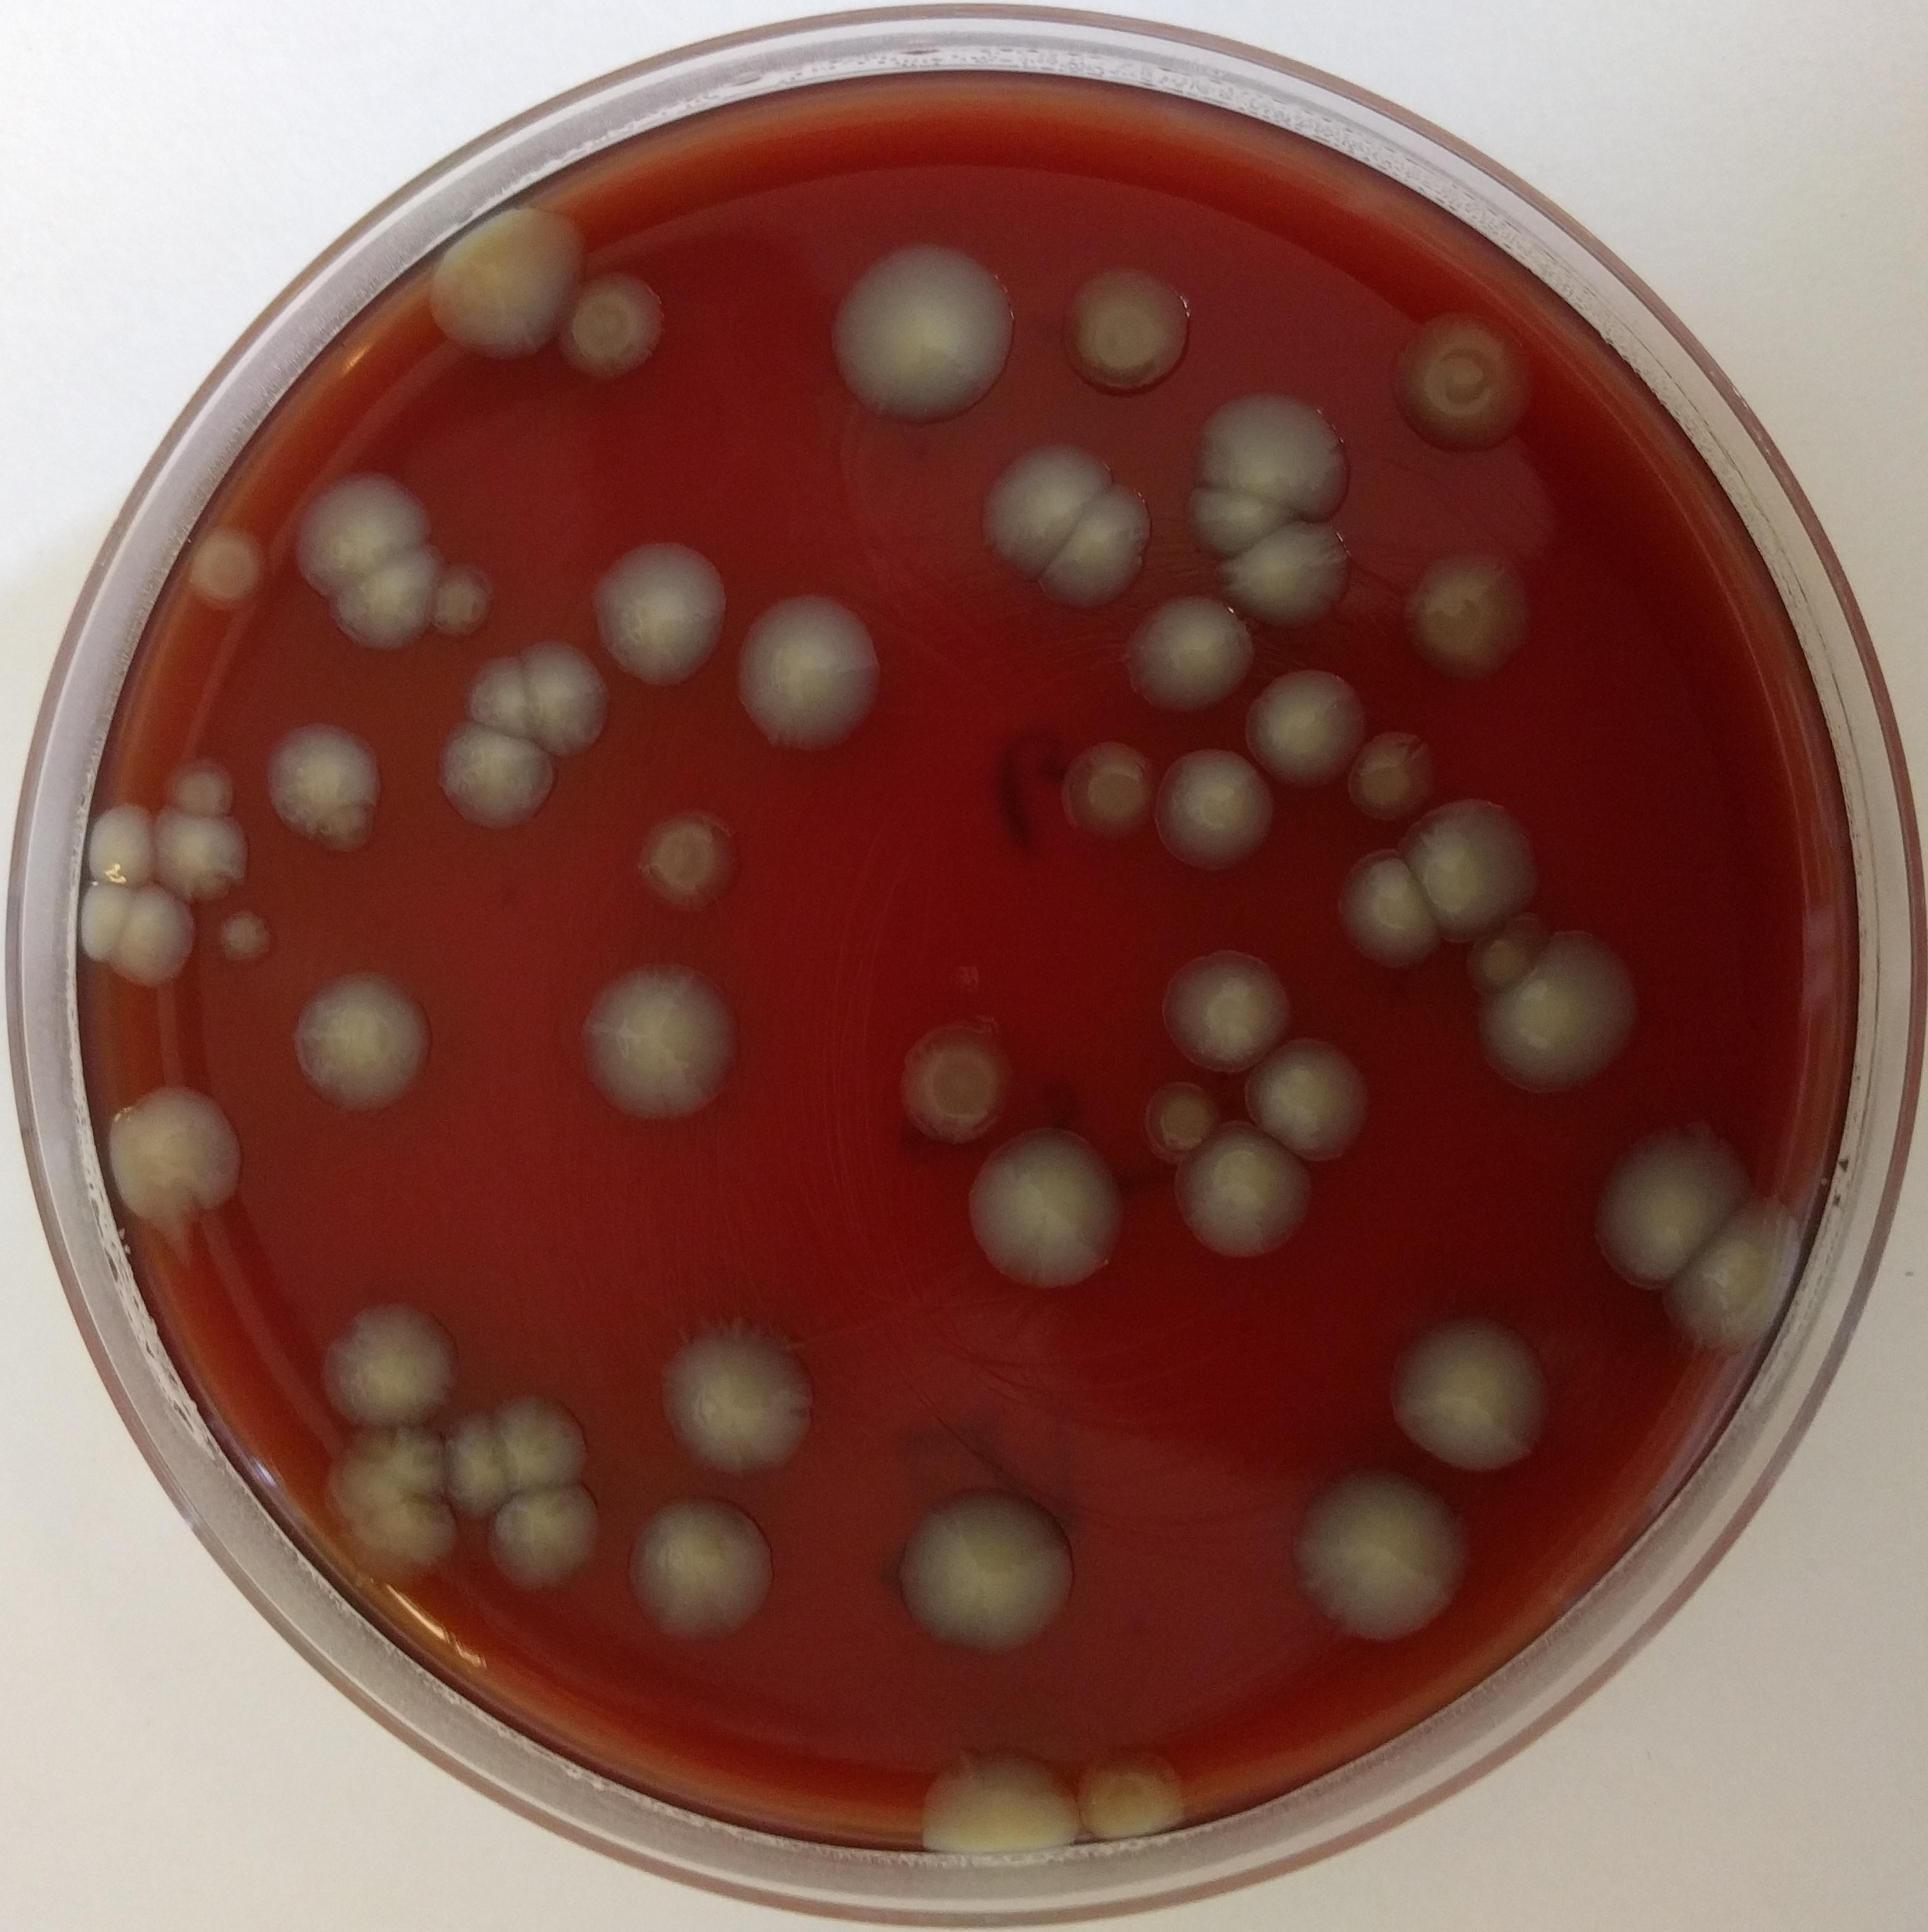sp05: (833, 230, 1026, 433), (1285, 1462, 1480, 1658), (893, 1480, 1082, 1667), (1474, 922, 1644, 1107), (95, 1063, 254, 1257), (653, 1309, 825, 1480), (579, 962, 738, 1146), (727, 586, 893, 761), (962, 1121, 1128, 1294), (1382, 1305, 1552, 1471), (1594, 1111, 1757, 1284), (427, 194, 576, 381), (627, 1494, 787, 1658), (1384, 302, 1550, 452), (1672, 1194, 1817, 1363), (284, 964, 441, 1120), (913, 1738, 1079, 1875), (593, 530, 724, 696), (1195, 385, 1356, 519), (1058, 260, 1199, 410), (1404, 537, 1534, 698), (1181, 1114, 1321, 1264), (314, 1286, 456, 1432), (1407, 775, 1541, 929), (976, 434, 1114, 579), (1243, 1035, 1377, 1171), (1149, 740, 1277, 883), (1156, 941, 1291, 1075), (263, 719, 392, 858), (625, 804, 764, 927), (295, 470, 426, 597), (1038, 475, 1149, 620), (1125, 586, 1248, 715), (893, 1010, 1013, 1143), (1255, 657, 1367, 793), (433, 715, 560, 834), (1213, 535, 1356, 639), (1326, 835, 1434, 968), (484, 1487, 607, 1598), (327, 539, 440, 655), (558, 268, 667, 385), (339, 1506, 464, 1604), (1082, 1729, 1188, 1844), (1058, 729, 1165, 841), (526, 629, 606, 770), (320, 1429, 450, 1512), (494, 1385, 593, 1491), (155, 804, 252, 909), (1349, 721, 1448, 819), (117, 883, 208, 989), (180, 521, 274, 615), (1178, 484, 1315, 547), (447, 1406, 510, 1521), (79, 800, 157, 883), (78, 881, 134, 985), (464, 652, 526, 742), (1144, 1081, 1220, 1151), (433, 558, 494, 643), (161, 751, 235, 819), (1465, 922, 1536, 992), (210, 904, 281, 971)
